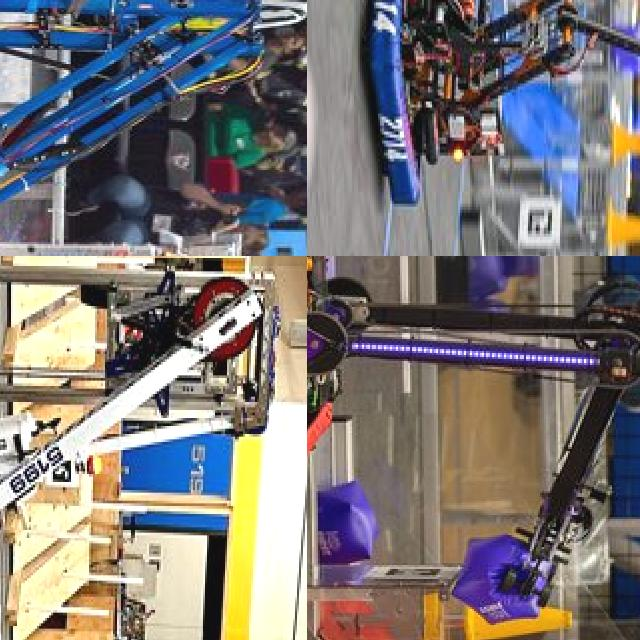FRC-Robots: (307, 256, 640, 631), (0, 256, 290, 640), (346, 0, 640, 256), (0, 0, 246, 256), (0, 192, 254, 256)
